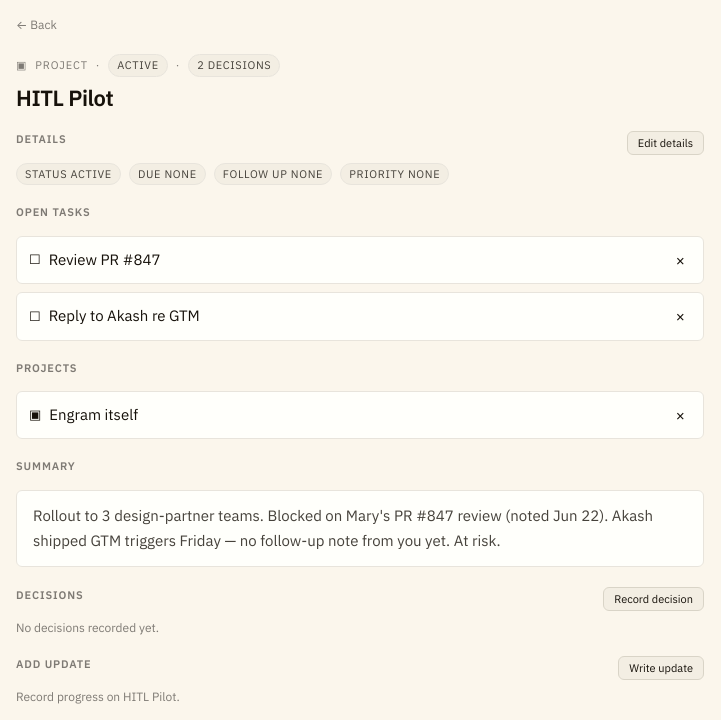
Test: V5ThreadDetail › renders the mention-enabled markdown editor for update text
The image size is (721, 720).
Check: the element "Add update" is shown, box [16,656,704,706]
What coordinates should you click on to do the following:
click the button "Write update"
I would click on:
 (661, 668)
Its box is [618,656,704,680].
(page scrolled)
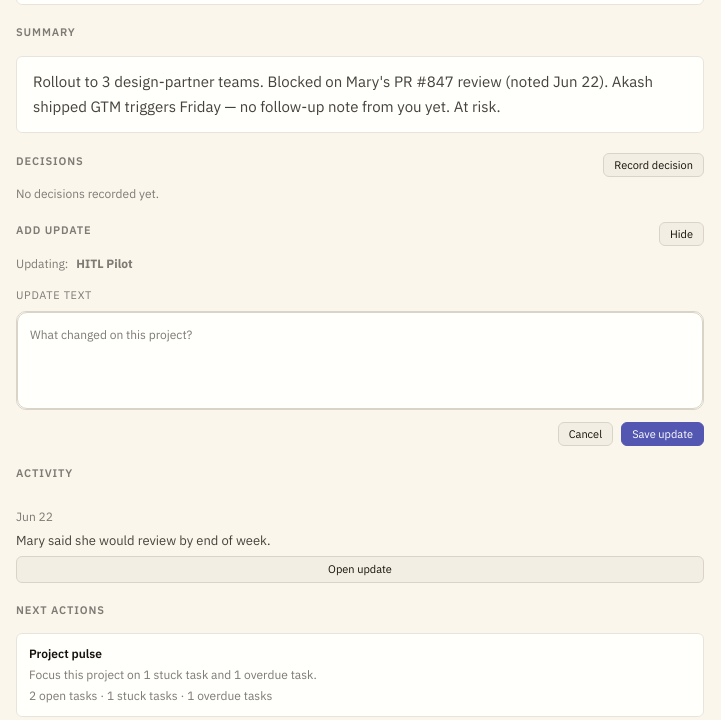
Check: the element named "Update text" is shown, box [16,311,704,410]
